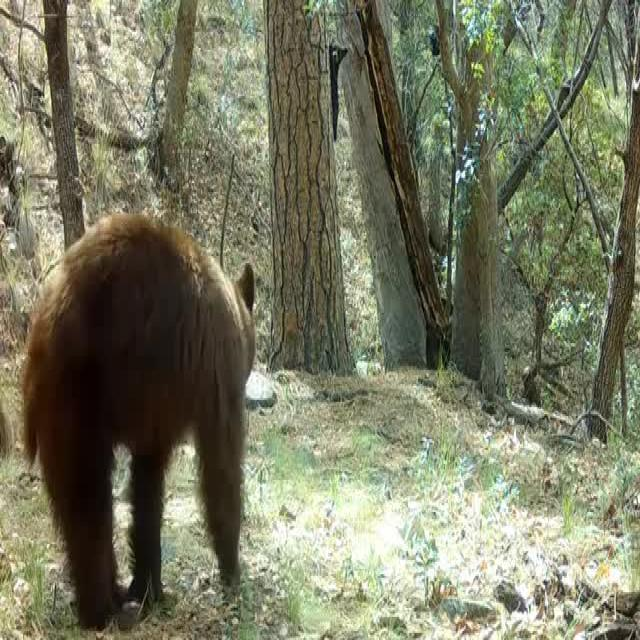bear face: (20, 208, 253, 619), (329, 44, 347, 143)
